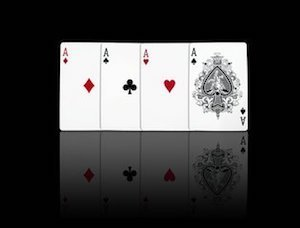AceOfClubs: (98, 38, 140, 132)
AceOfDiamonds: (52, 36, 100, 133)
AceOfHearts: (137, 41, 188, 133)
AceOfSpades: (186, 39, 250, 133)
